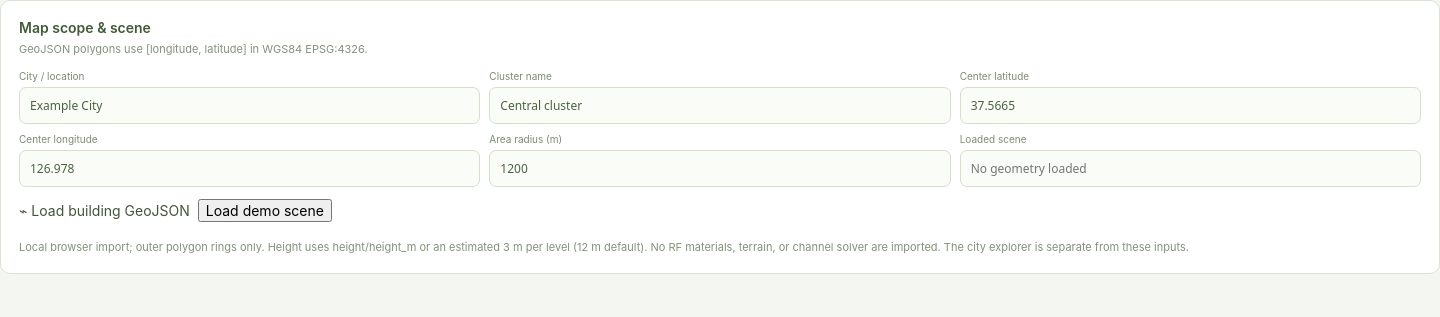
Test: MapScopeControls › saves validated map scope fields and rejects values outside the project model
The width and height of the screenshot is (1440, 317).
Replace the text in the field labelled "City / location" with "Seoul Central" at (250, 105), box [19,86,480,124]
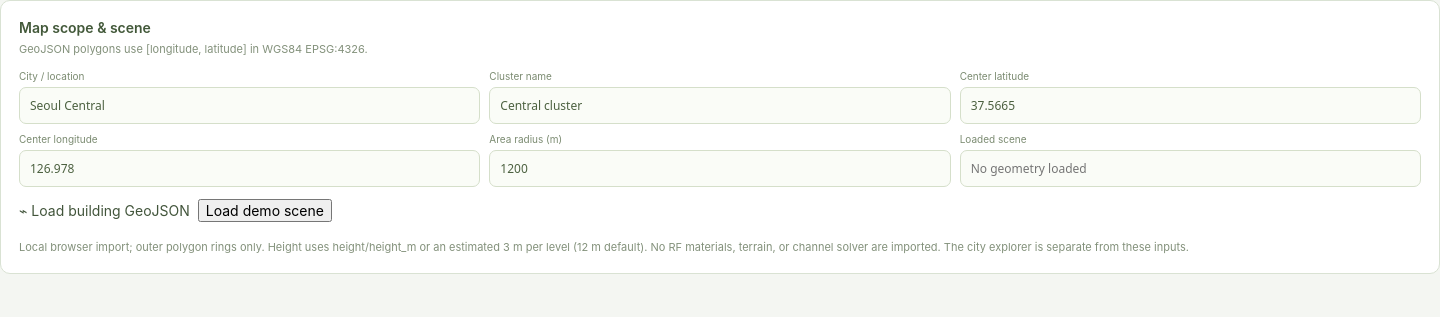
Replace the text in the number field labelled "Area radius (m)" with "20001" at (720, 168), box [489,150,951,186]
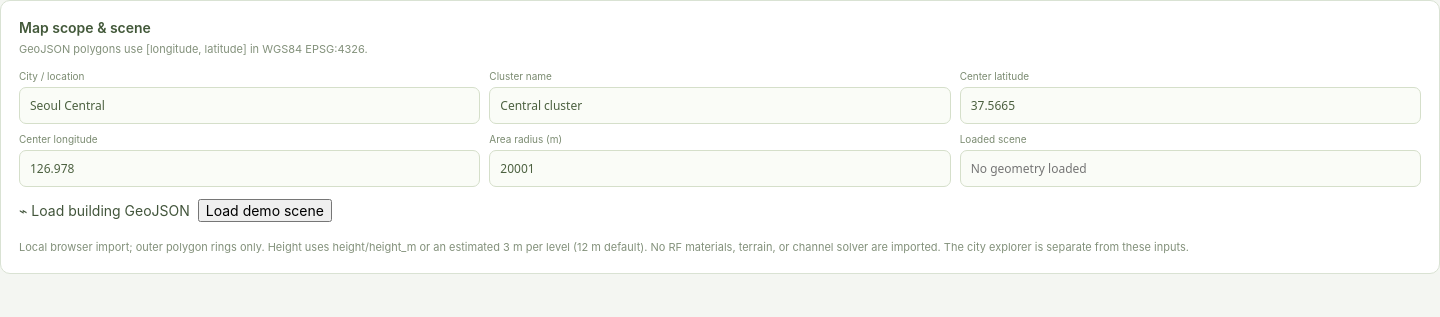
Leave the number field labelled "Area radius (m)", box [489,150,951,186]
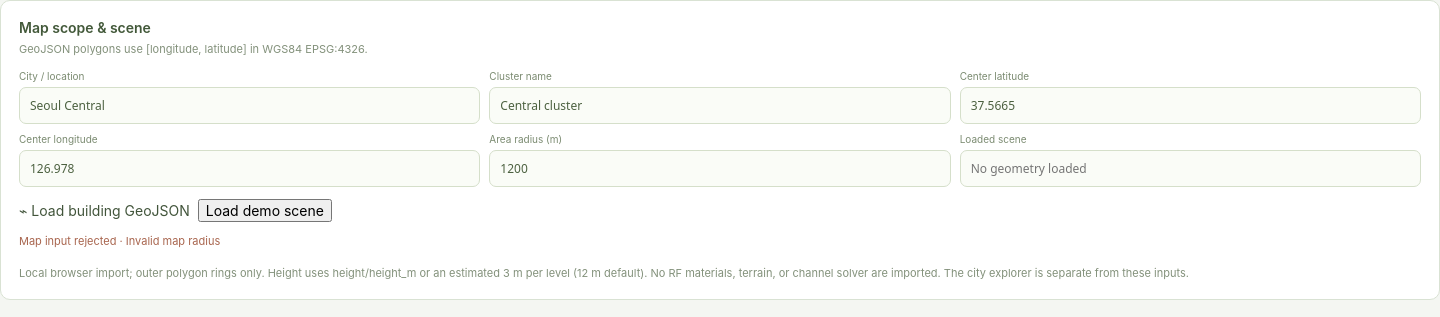
Expected: the message shows "map radius", [126,234,220,248]
Expected: the number field labelled "Area radius (m)" holds "1200", [489,150,951,186]
